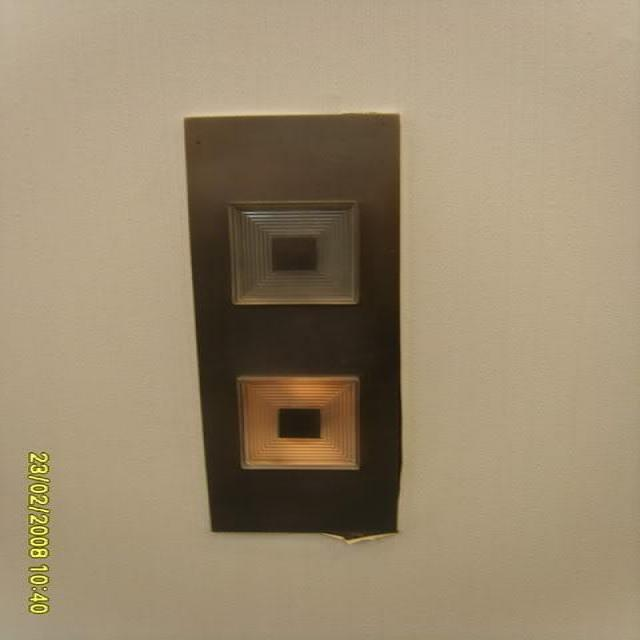empty: (264, 231, 320, 274), (273, 404, 323, 440)
